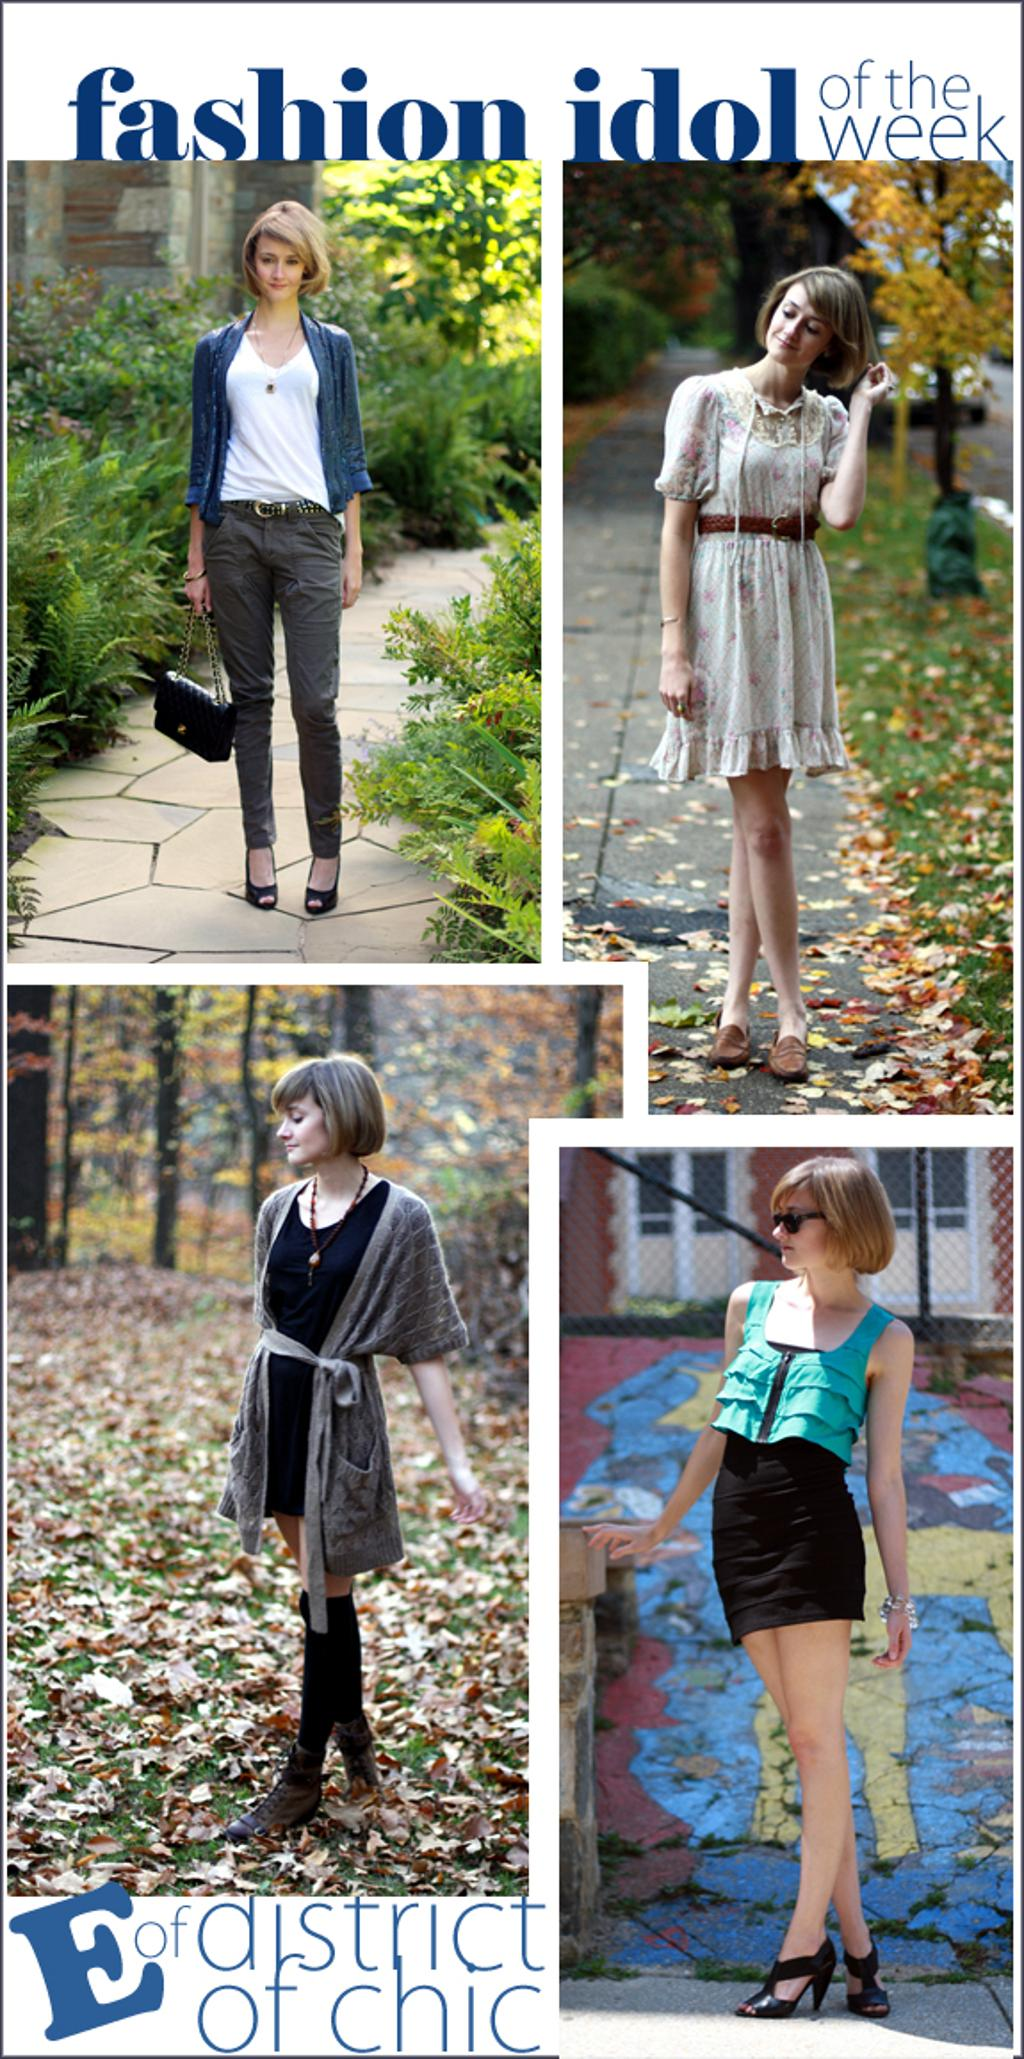face: (765, 287, 830, 368), (772, 1190, 832, 1270), (276, 1088, 328, 1164), (254, 236, 302, 301)
